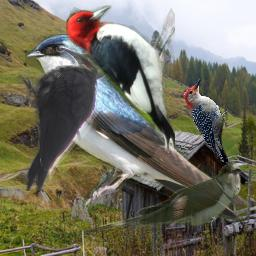Cuckoo: (80, 162, 241, 236)
Swallow: (25, 34, 252, 222)
Woodpecker: (66, 5, 175, 151), (17, 45, 121, 191), (182, 78, 228, 162)
